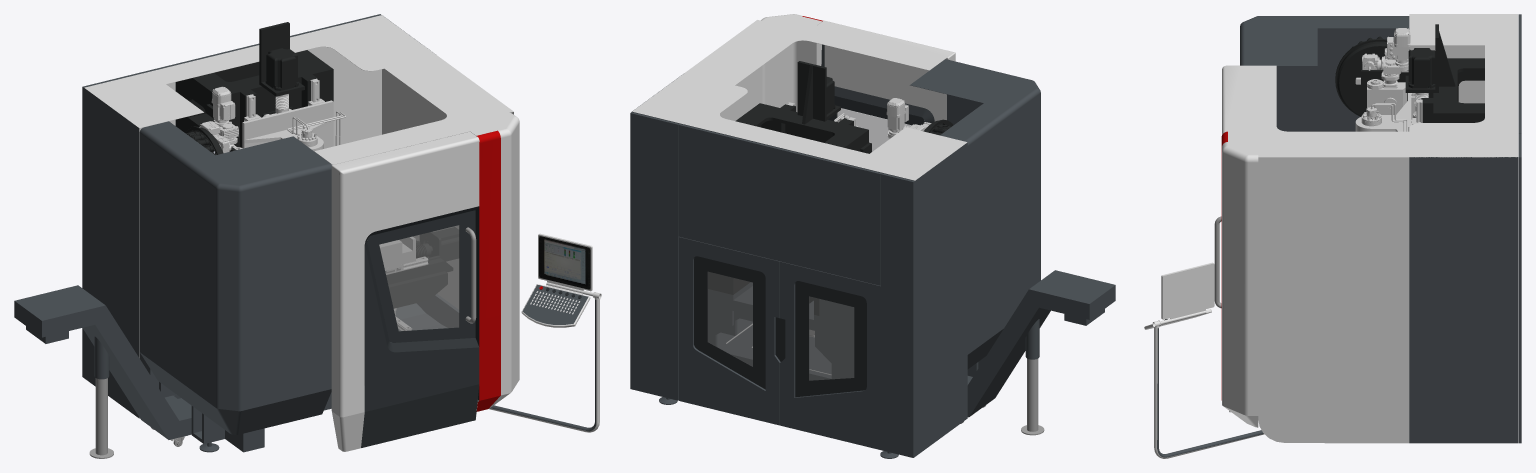
Rendered from cnc.glb.
3 renders of one model, left to right at view 1: azimuth 30°, elevation 25°; view 2: azimuth 150°, elevation 25°; view 3: azimuth 270°, elevation 25°, orthographic. The views are drawn at different scales.
Visible parts, largest first — view 1: CNC_Machine_with_Doors_mesh76, CNC_Machine_with_Doors_mesh106, CNC_Machine_with_Doors_mesh72, CNC_Machine_with_Doors_mesh179, CNC_Machine_with_Doors_mesh83, CNC_Machine_with_Doors_mesh78, CNC_Machine_with_Doors_mesh103, CNC_Machine_with_Doors_mesh88, CNC_Machine_with_Doors_mesh135, CNC_Machine_with_Doors_mesh77, CNC_Machine_with_Doors_mesh110, CNC_Machine_with_Doors_mesh80 (+8 smaller); view 2: CNC_Machine_with_Doors_mesh132, CNC_Machine_with_Doors_mesh106, CNC_Machine_with_Doors_mesh76, CNC_Machine_with_Doors_mesh101, CNC_Machine_with_Doors_mesh85, CNC_Machine_with_Doors_mesh179, CNC_Machine_with_Doors_mesh103, CNC_Machine_with_Doors_mesh100, CNC_Machine_with_Doors_mesh72, CNC_Machine_with_Doors_mesh77, CNC_Machine_with_Doors_mesh73, CNC_Machine_with_Doors_mesh78 (+2 smaller); view 3: CNC_Machine_with_Doors_mesh106, CNC_Machine_with_Doors_mesh74, CNC_Machine_with_Doors_mesh76, CNC_Machine_with_Doors_mesh88, CNC_Machine_with_Doors_mesh103, CNC_Machine_with_Doors_mesh91, CNC_Machine_with_Doors_mesh101, CNC_Machine_with_Doors_mesh72, CNC_Machine_with_Doors_mesh44, CNC_Machine_with_Doors_mesh37, CNC_Machine_with_Doors_mesh41, CNC_Machine_with_Doors_mesh124 (+4 smaller).
Boxes of the visible parts, x1,y1,x2,y2 form: CNC_Machine_with_Doors_mesh76: (139, 121, 331, 434); CNC_Machine_with_Doors_mesh106: (84, 15, 519, 418); CNC_Machine_with_Doors_mesh72: (331, 131, 479, 451); CNC_Machine_with_Doors_mesh179: (14, 285, 191, 439); CNC_Machine_with_Doors_mesh83: (364, 244, 479, 411); CNC_Machine_with_Doors_mesh78: (379, 225, 459, 331); CNC_Machine_with_Doors_mesh103: (175, 22, 333, 147); CNC_Machine_with_Doors_mesh88: (489, 233, 601, 432); CNC_Machine_with_Doors_mesh135: (477, 130, 500, 400); CNC_Machine_with_Doors_mesh77: (353, 192, 479, 449); CNC_Machine_with_Doors_mesh110: (367, 210, 476, 342); CNC_Machine_with_Doors_mesh80: (361, 384, 479, 447); CNC_Machine_with_Doors_mesh132: (678, 124, 881, 449); CNC_Machine_with_Doors_mesh106: (632, 14, 967, 456); CNC_Machine_with_Doors_mesh76: (910, 59, 1040, 369); CNC_Machine_with_Doors_mesh101: (630, 112, 678, 400); CNC_Machine_with_Doors_mesh85: (881, 173, 914, 457); CNC_Machine_with_Doors_mesh179: (967, 270, 1115, 417); CNC_Machine_with_Doors_mesh103: (708, 61, 868, 315); CNC_Machine_with_Doors_mesh100: (708, 282, 985, 380); CNC_Machine_with_Doors_mesh72: (816, 20, 955, 119); CNC_Machine_with_Doors_mesh77: (826, 71, 941, 123); CNC_Machine_with_Doors_mesh73: (1021, 358, 1044, 435); CNC_Machine_with_Doors_mesh78: (836, 108, 911, 151); CNC_Machine_with_Doors_mesh106: (1222, 14, 1518, 443); CNC_Machine_with_Doors_mesh74: (1409, 157, 1518, 443); CNC_Machine_with_Doors_mesh76: (1240, 16, 1409, 131); CNC_Machine_with_Doors_mesh88: (1144, 262, 1264, 458); CNC_Machine_with_Doors_mesh103: (1405, 24, 1484, 122); CNC_Machine_with_Doors_mesh91: (1335, 39, 1410, 116); CNC_Machine_with_Doors_mesh101: (1518, 133, 1521, 443); CNC_Machine_with_Doors_mesh72: (1222, 65, 1239, 134); CNC_Machine_with_Doors_mesh44: (1408, 48, 1435, 88); CNC_Machine_with_Doors_mesh37: (1382, 28, 1410, 78); CNC_Machine_with_Doors_mesh41: (1367, 81, 1407, 114); CNC_Machine_with_Doors_mesh124: (1355, 93, 1411, 131).
Size of the model in its own units: 4.33 by 3.21 by 3.12.
12 materials, 1 textured.
